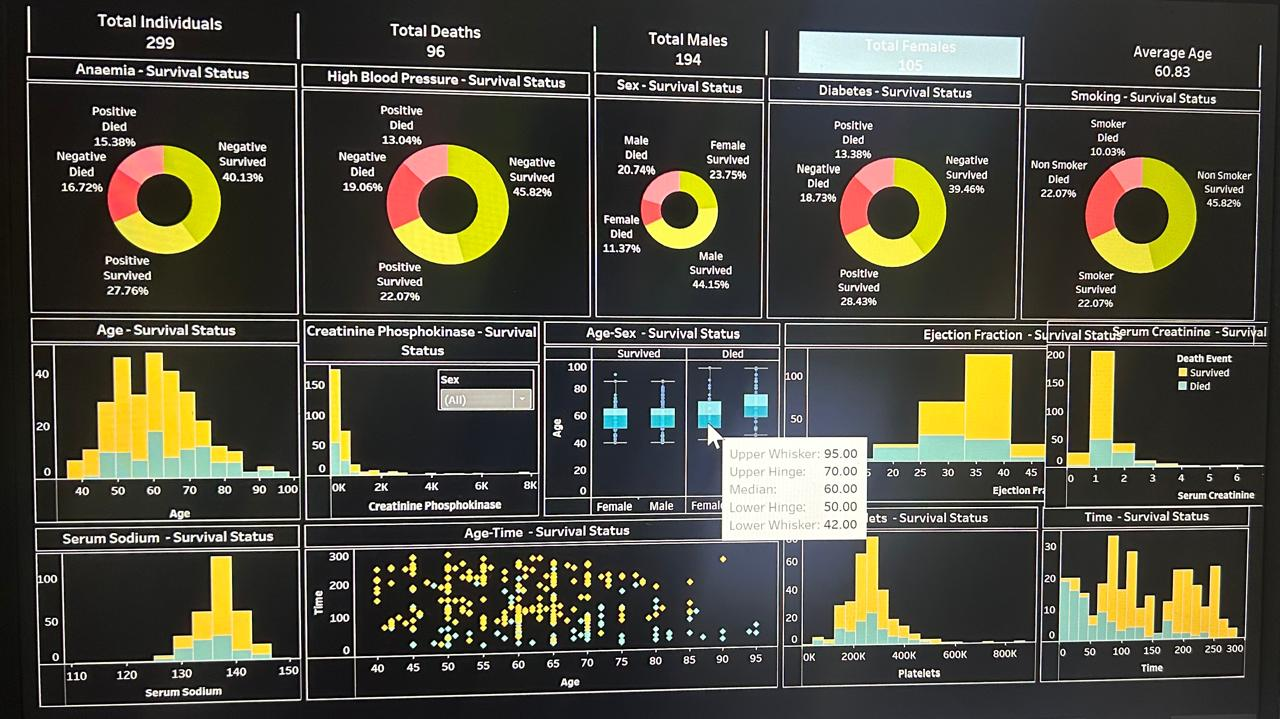

The dashboard page shown, as its layout file describes it:
{"tool":"tableau","page":{"name":"Dashboard 1","canvas":[1900,1050],"ordinal":0},"visuals":[{"type":"worksheet","title":"Sheet 15","mark":"Automatic","box":[8,8,384,72]},{"type":"worksheet","title":"Sheet 15 (2)","mark":"Automatic","box":[392,8,416,72]},{"type":"worksheet","title":"Sheet 15 (3)","mark":"Automatic","box":[808,8,328,72]},{"type":"worksheet","title":"Sheet 15 (4)","mark":"Automatic","box":[1136,8,461,72]},{"type":"worksheet","title":"Sheet 15 (5)","mark":"Automatic","box":[1597,8,295,72]},{"type":"blank","box":[390,10,2,66]},{"type":"blank","box":[1494,11,2,66]},{"type":"blank","box":[14,12,2,66]},{"type":"blank","box":[1088,13,2,66]},{"type":"blank","box":[1885,13,2,66]},{"type":"blank","box":[825,15,2,66]},{"type":"worksheet","title":"Sheet 1","mark":"Pie","rows":["Calculation_700028282346074115","Calculation_700028282346074115"],"box":[8,80,384,378]},{"type":"worksheet","title":"Sheet 1 (3)","mark":"Pie","rows":["Calculation_700028282346074115","Calculation_700028282346074115"],"box":[392,80,430,378]},{"type":"worksheet","title":"Sheet 1 (4)","mark":"Pie","rows":["Calculation_700028282346074115","Calculation_700028282346074115"],"box":[822,80,267,378]},{"type":"worksheet","title":"Sheet 1 (2)","mark":"Pie","rows":["Calculation_700028282346074115","Calculation_700028282346074115"],"box":[1089,80,407,378]},{"type":"worksheet","title":"Sheet 1 (5)","mark":"Pie","rows":["Calculation_700028282346074115","Calculation_700028282346074115"],"box":[1495.9,80,396.1,378]},{"type":"worksheet","title":"Sheet 6","mark":"Automatic","rows":["age"],"cols":["Age (bin)"],"box":[8,458,384,307.5]},{"type":"worksheet","title":"Sheet 6 (2)","mark":"Automatic","rows":["creatinine_phosphokinase"],"cols":["Creatinine Phosphokinase (bin)"],"box":[392,458,379.9,307.5]},{"type":"worksheet","title":"Sheet 6 (9)","mark":"Circle","rows":["age"],"cols":["DEATH_EVENT","sex"],"box":[771.9,458,441.5,307.5]},{"type":"worksheet","title":"Sheet 6 (4)","mark":"Automatic","rows":["platelets"],"cols":["Platelets (bin)"],"box":[1213.4,458,291.6,584]},{"type":"worksheet","title":"Sheet 6 (5)","mark":"Automatic","rows":["serum_creatinine"],"cols":["Serum Creatinine (bin)"],"box":[1505,458,387,584]},{"type":"legend","title":"Sheet 6 (5)","param":"[federated.0jkm93q0w94dwz14x2tgi0rlnnv0].[none:DEATH_EVENT:ok]","box":[1729,526,140,67]},{"type":"filter","title":"Sheet 6 (9)","param":"[federated.0jkm93q0w94dwz14x2tgi0rlnnv0].[none:sex:ok]","box":[590,535,142,62]},{"type":"worksheet","title":"Sheet 6 (6)","mark":"Automatic","rows":["serum_sodium"],"cols":["Serum Sodium (bin)"],"box":[8,765.5,382,276.5]},{"type":"worksheet","title":"Sheet 6 (8)","mark":"Automatic","rows":["time"],"cols":["age"],"box":[390,765.5,823.4,276.5]}]}

Visuals, with their boxes in screenshot pixels (x1, y1, x2, y2), scaled from the page's 1900x1050 canvas onto the 1280x719 screenshot:
"Sheet 15" worksheet: <region>5, 5, 264, 55</region>
"Sheet 15 (2)" worksheet: <region>264, 5, 544, 55</region>
"Sheet 15 (3)" worksheet: <region>544, 5, 765, 55</region>
"Sheet 15 (4)" worksheet: <region>765, 5, 1076, 55</region>
"Sheet 15 (5)" worksheet: <region>1076, 5, 1275, 55</region>
blank: <region>263, 7, 264, 52</region>
blank: <region>1006, 8, 1008, 53</region>
blank: <region>9, 8, 11, 53</region>
blank: <region>733, 9, 734, 54</region>
blank: <region>1270, 9, 1271, 54</region>
blank: <region>556, 10, 557, 55</region>
"Sheet 1" worksheet (Pie marks): <region>5, 55, 264, 314</region>
"Sheet 1 (3)" worksheet (Pie marks): <region>264, 55, 554, 314</region>
"Sheet 1 (4)" worksheet (Pie marks): <region>554, 55, 734, 314</region>
"Sheet 1 (2)" worksheet (Pie marks): <region>734, 55, 1008, 314</region>
"Sheet 1 (5)" worksheet (Pie marks): <region>1008, 55, 1275, 314</region>
"Sheet 6" worksheet: <region>5, 314, 264, 524</region>
"Sheet 6 (2)" worksheet: <region>264, 314, 520, 524</region>
"Sheet 6 (9)" worksheet (Circle marks): <region>520, 314, 817, 524</region>
"Sheet 6 (4)" worksheet: <region>817, 314, 1014, 714</region>
"Sheet 6 (5)" worksheet: <region>1014, 314, 1275, 714</region>
"Sheet 6 (5)" legend: <region>1165, 360, 1259, 406</region>
"Sheet 6 (9)" filter: <region>397, 366, 493, 409</region>
"Sheet 6 (6)" worksheet: <region>5, 524, 263, 714</region>
"Sheet 6 (8)" worksheet: <region>263, 524, 817, 714</region>
